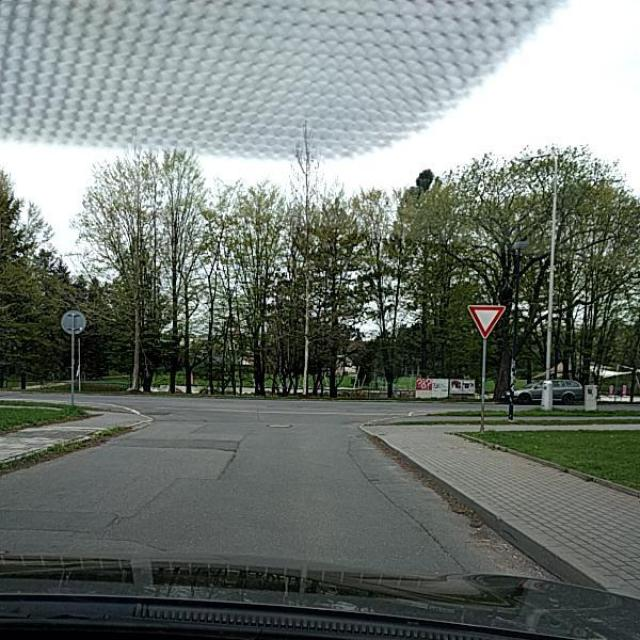Crack: (320, 400, 515, 603)
